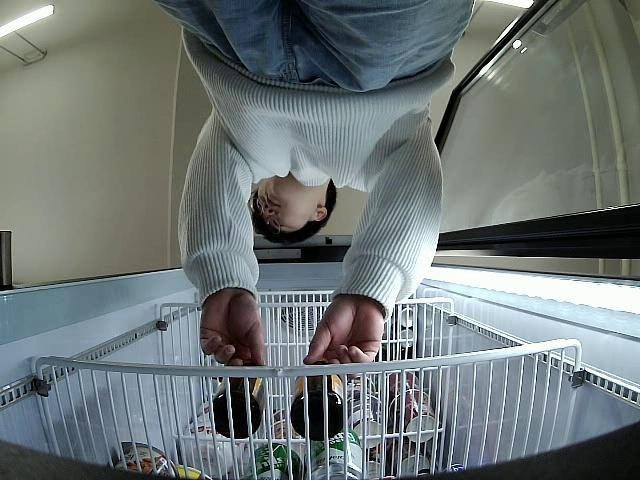17_vita500: (290, 374, 345, 441), (214, 377, 266, 440)
